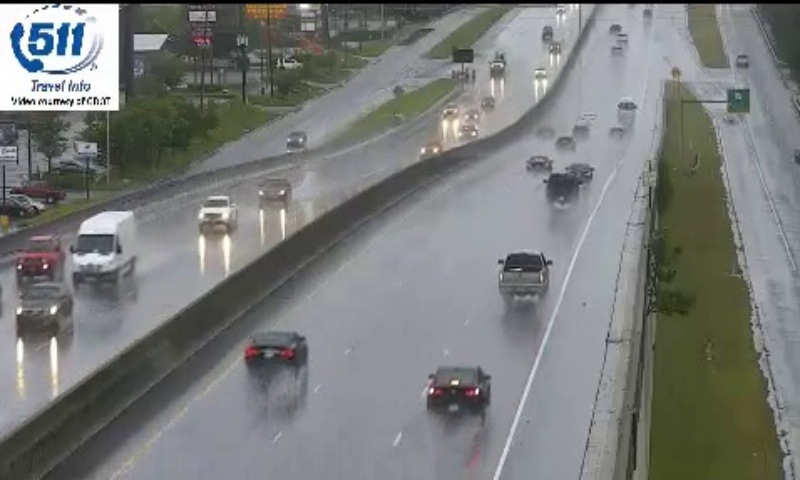car: (426, 365, 490, 413), (246, 331, 307, 371), (500, 251, 548, 297), (545, 171, 577, 203)
